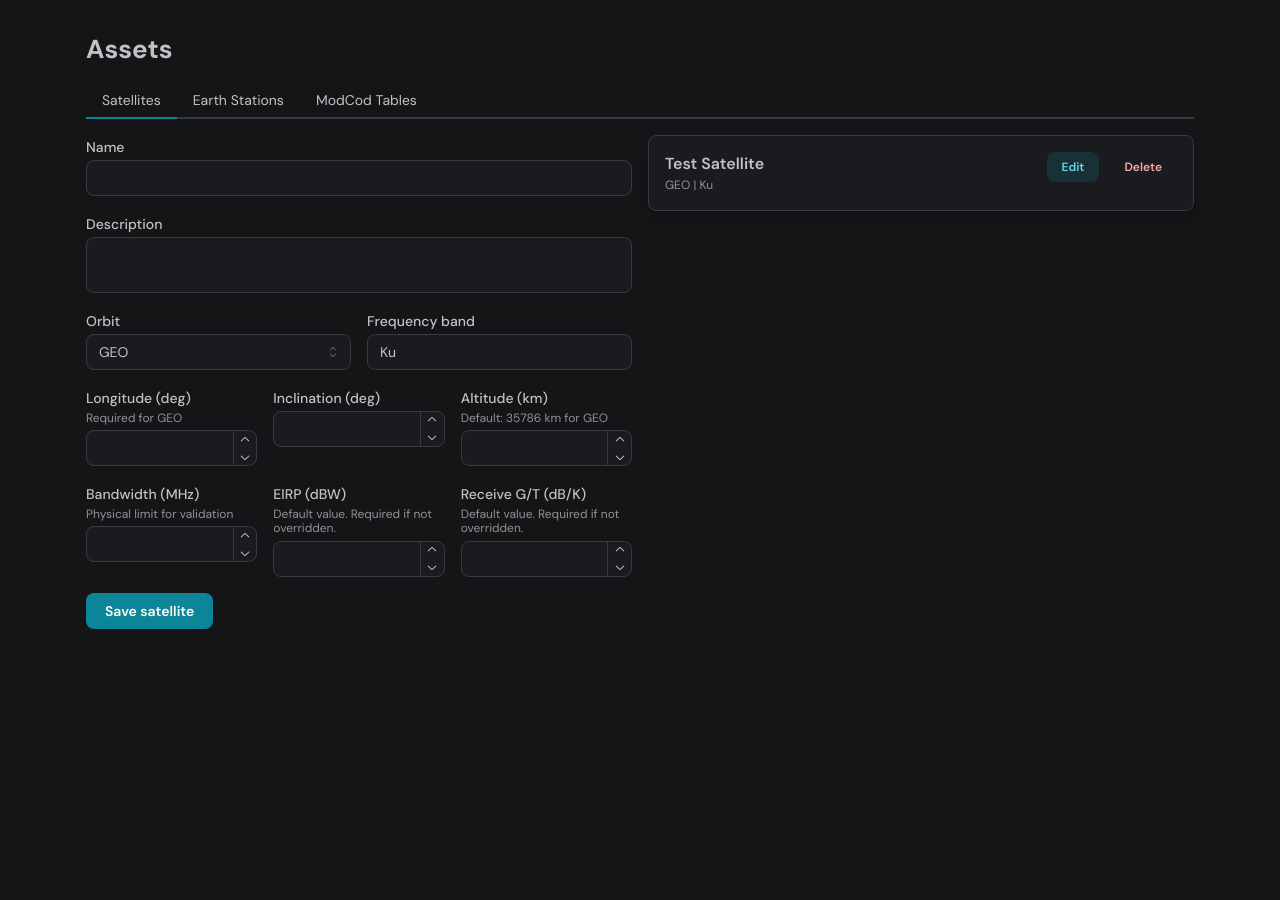
Scenario: AssetsPage › switches to earth stations tab
Step 1. Click the tab "Earth Stations" → x=238, y=101, box [177,83,300,119]
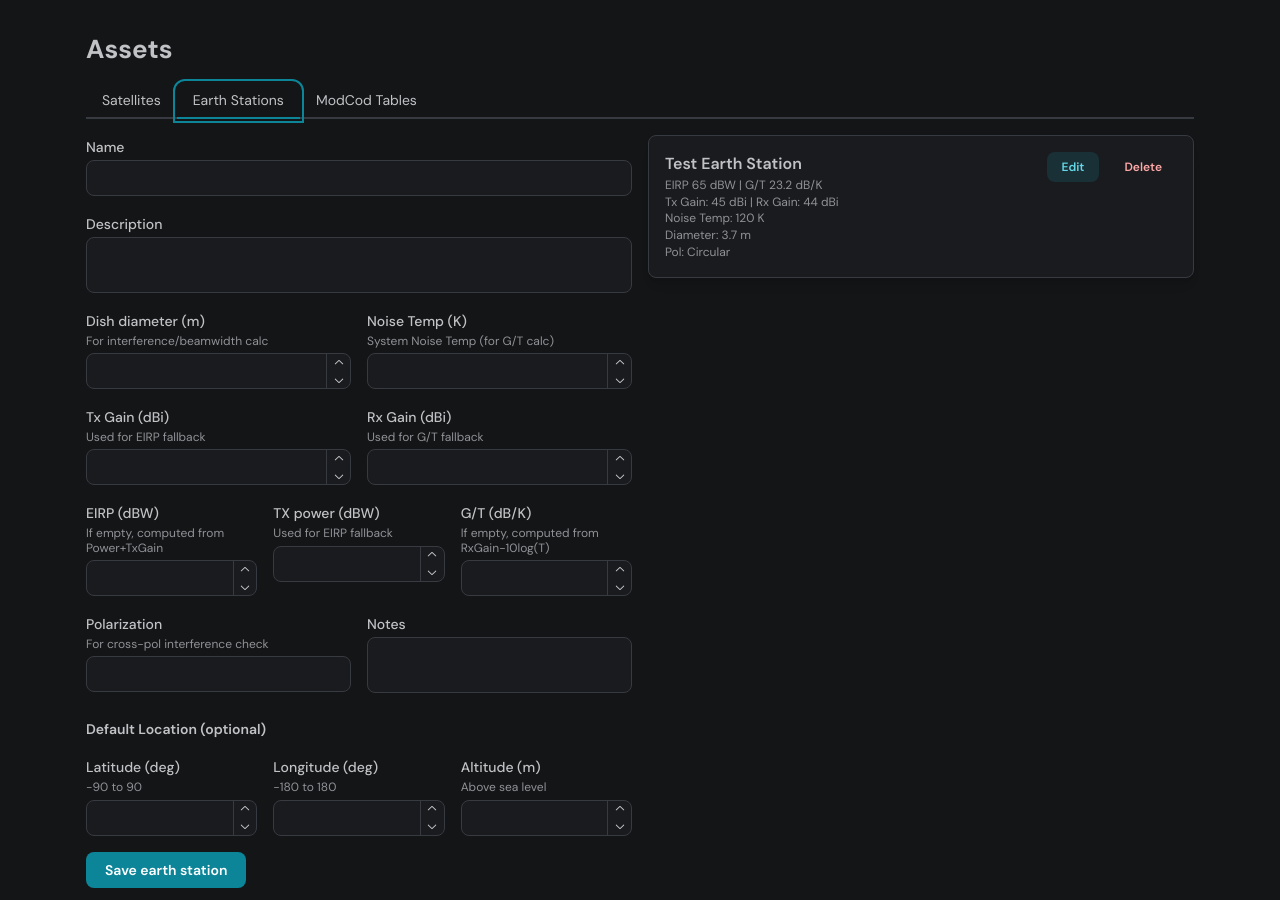
Check: the button "Save earth station" is shown, box [86,852,246,888]
